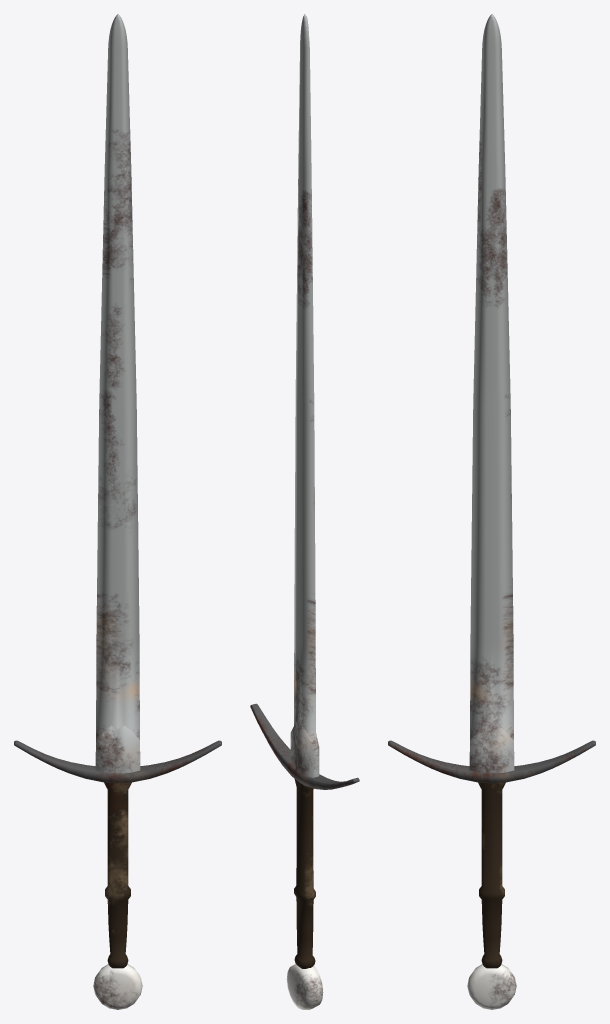
3 views of the same model, side by side, from view 1: azimuth 90°, elevation 25°; view 2: azimuth 210°, elevation 25°; view 3: azimuth 270°, elevation 25° (orthographic).
Visible parts, largest first — view 1: Body; view 2: Body; view 3: Body.
Boxes of the visible parts, x1,y1,x2,y2 form: Body: (14,14,221,1009); Body: (250,14,359,1009); Body: (388,14,595,1009).
Bounding box in the file's own units: 0.029 × 1.41 × 0.2673.
1 material, 1 textured.
